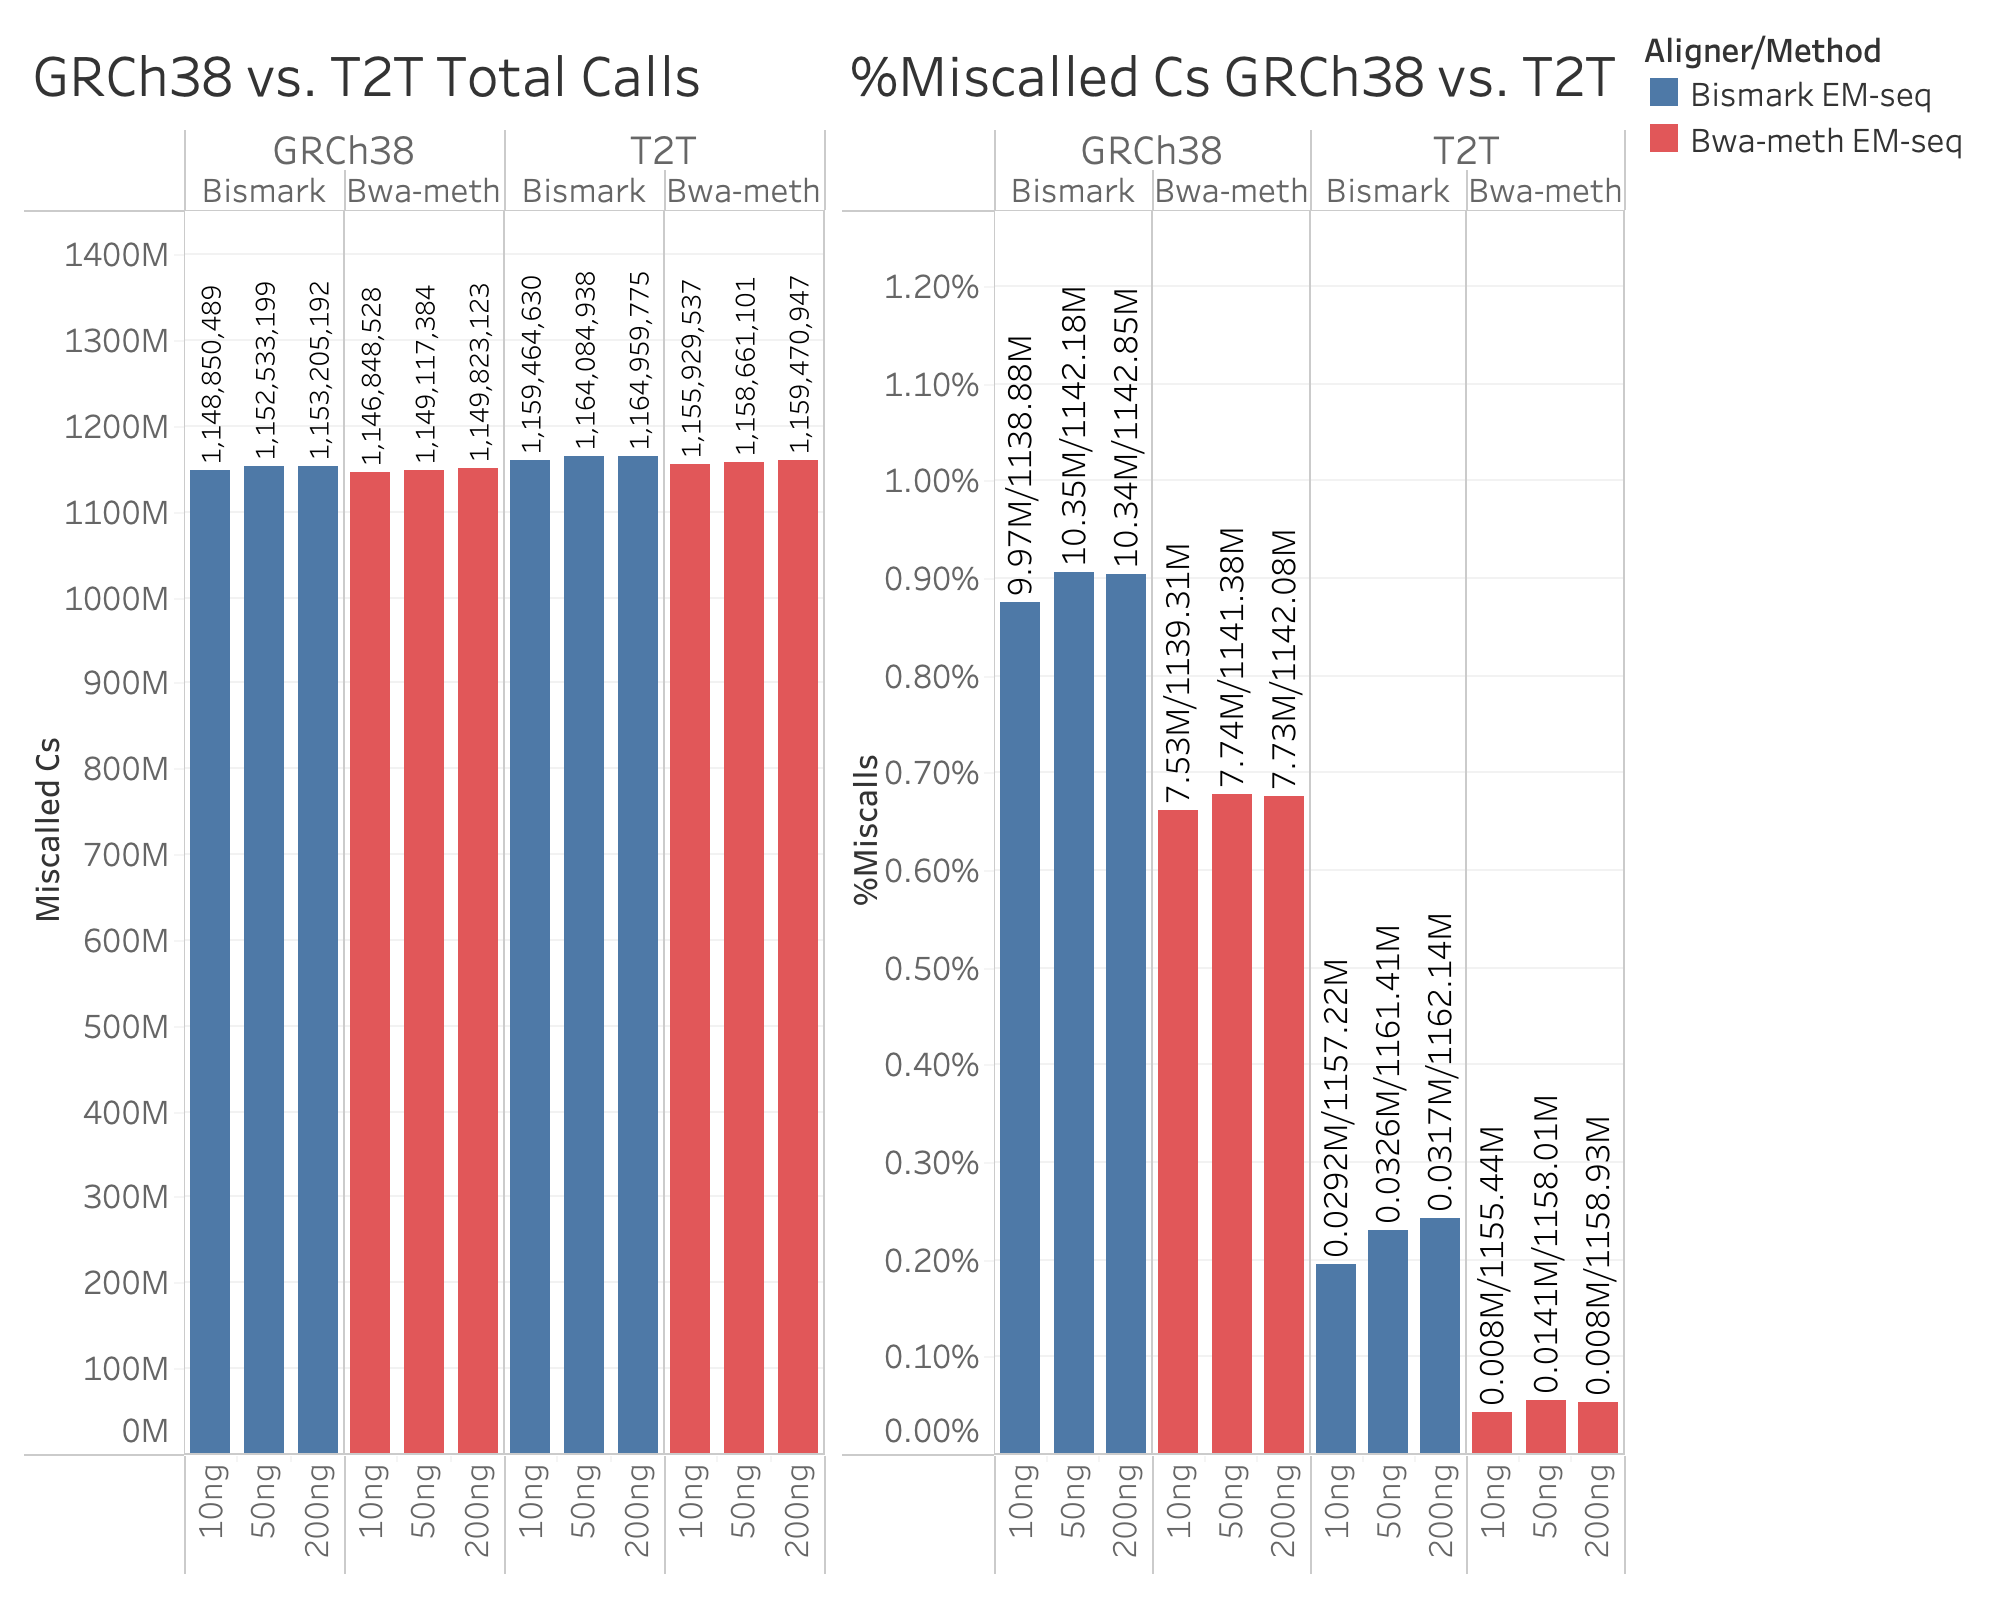

Layout of this report page (visuals, bound fields, positions):
{"tool":"tableau","page":{"name":"T2T Overview","canvas":[1000,800],"ordinal":9},"visuals":[{"type":"worksheet","title":"GRCh38 vs. T2T Total Calls","mark":"Automatic","rows":["lines"],"cols":["Calculation_2909958679150444545","Calculation_1286059169409380354","mass"],"box":[8,8,476,784]},{"type":"blank","box":[484,8,32,784]},{"type":"worksheet","title":"% Miscalled Cs GRCh38 vs. T2T","mark":"Automatic","rows":["Calculation_2383319000136155137"],"cols":["Calculation_2383319000190631947","Method Printable (copy)_2383319000139251717","mass"],"box":[516,8,476,784]},{"type":"legend","title":"GRCh38 vs. T2T Total Calls","param":"[federated.11dozac0mvq9ya1ft8kho1ocxwgv].[none:Calculation_1286059169408798721:n","box":[810,116,170,76]}]}

Visuals, with their boxes in screenshot pixels (x1, y1, x2, y2), scaled from the page's 1000x800 canvas onto the 2000x1600 screenshot:
"GRCh38 vs. T2T Total Calls" worksheet: [16,16,968,1584]
blank: [968,16,1032,1584]
"% Miscalled Cs GRCh38 vs. T2T" worksheet: [1032,16,1984,1584]
"GRCh38 vs. T2T Total Calls" legend: [1620,232,1960,384]
